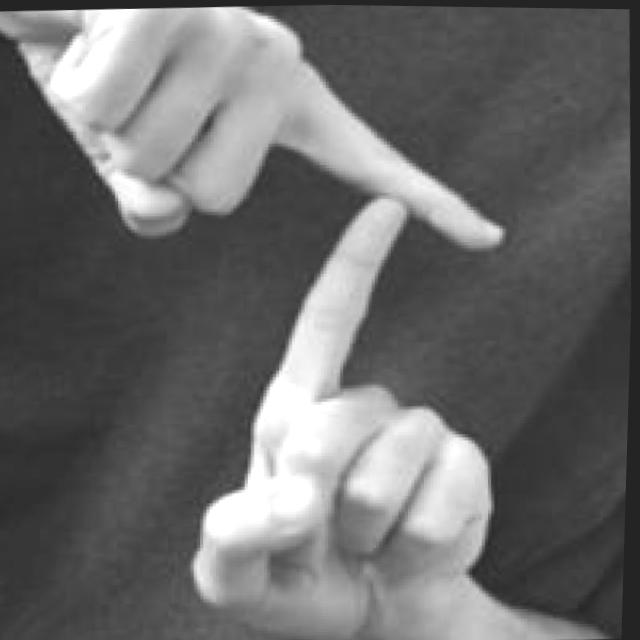T: (0, 0, 529, 640)
